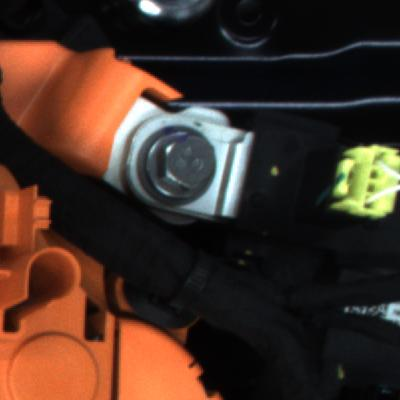nut_b: (131, 120, 226, 211)
